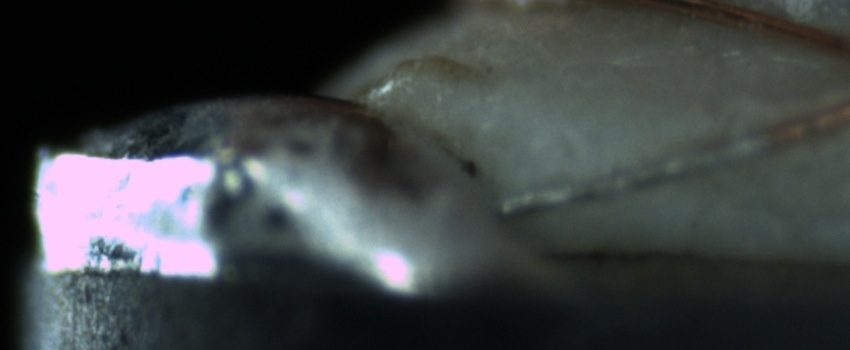TS: (492, 128, 768, 217)
